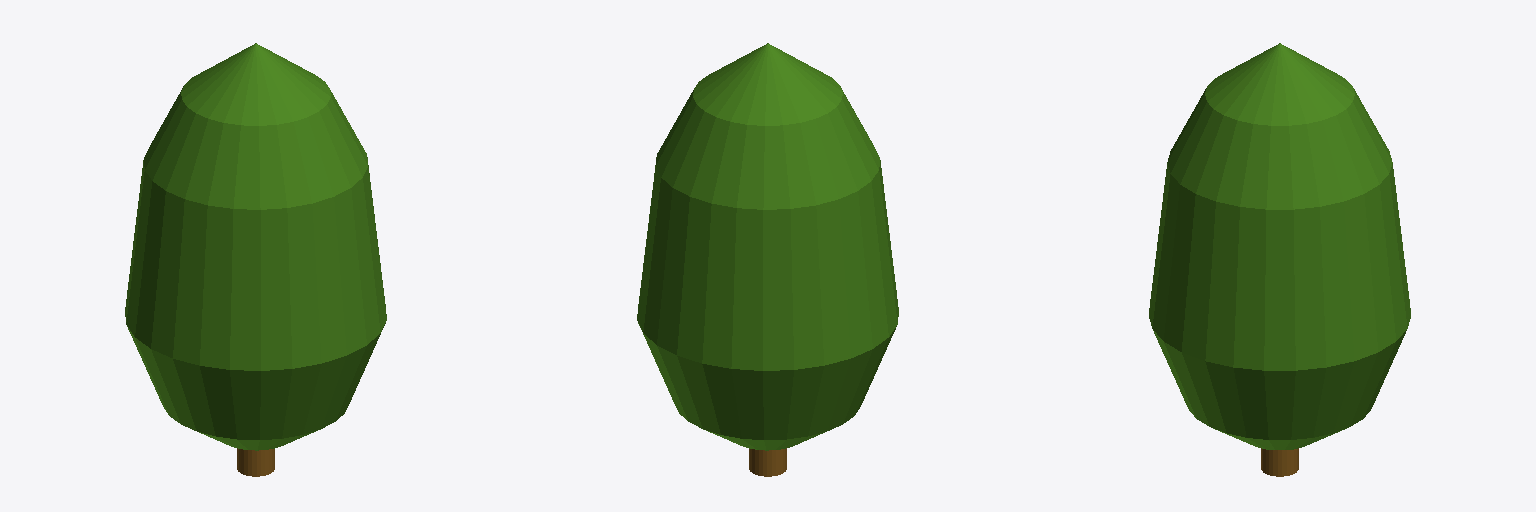
The model's file is Prop_Decorative_Tree_Elm_2.obj.
3 renders of one model, left to right at view 1: azimuth 30°, elevation 25°; view 2: azimuth 150°, elevation 25°; view 3: azimuth 270°, elevation 25°, orthographic.
Parts seen in each view (by area): view 1: object2, object1; view 2: object2, object1; view 3: object2, object1.
Boxes of the visible parts, x1=… form: object2: x1=125, y1=43, x2=386, y2=450; object1: x1=237, y1=448, x2=274, y2=476; object2: x1=637, y1=43, x2=898, y2=450; object1: x1=749, y1=448, x2=786, y2=476; object2: x1=1149, y1=43, x2=1410, y2=449; object1: x1=1261, y1=448, x2=1298, y2=476.
Bounding box in the file's own units: 0.6949 × 1.25 × 0.7.